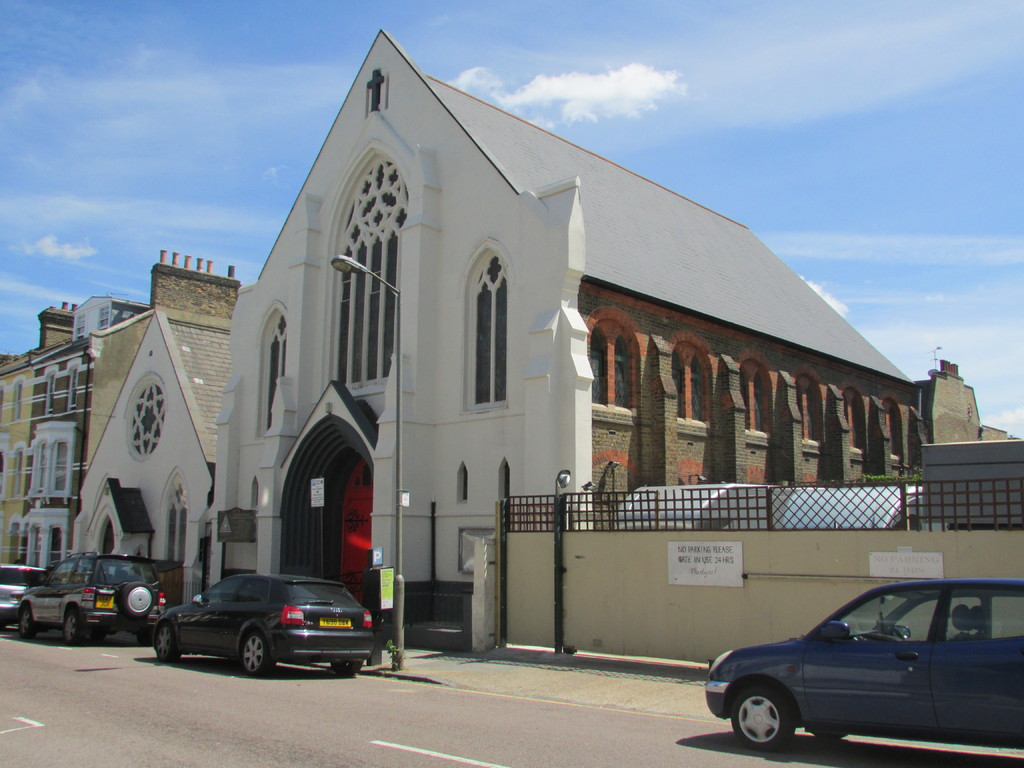cars: (704, 580, 1002, 757), (151, 571, 374, 676), (16, 550, 165, 645), (0, 562, 49, 629)
